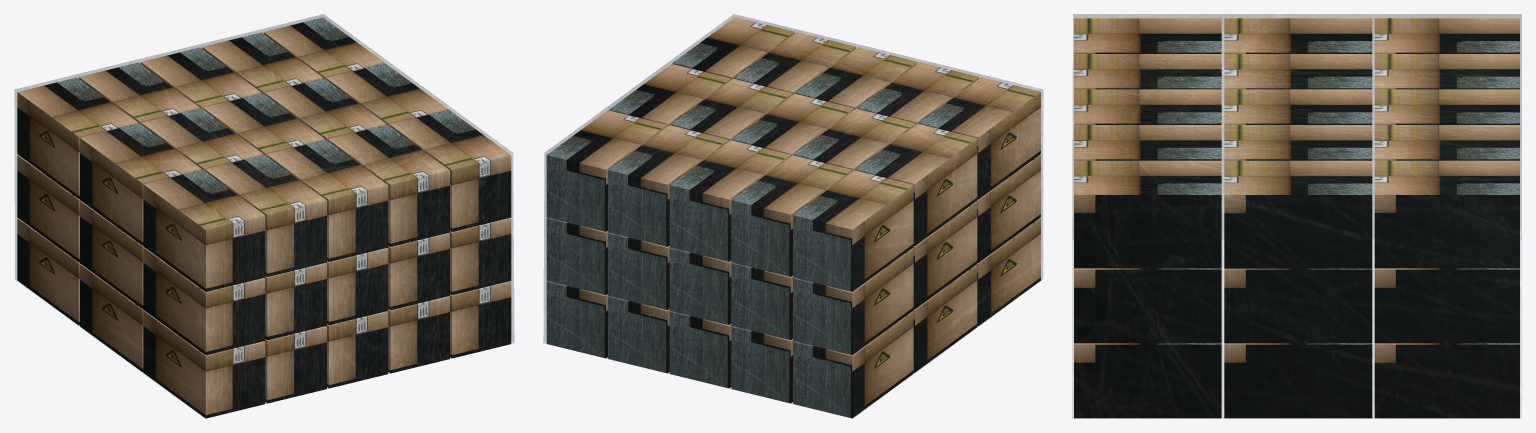
File: Plasticwrapboxfinal.fbx
3 views of the same model, side by side, from view 1: azimuth 30°, elevation 25°; view 2: azimuth 150°, elevation 25°; view 3: azimuth 270°, elevation 25° (orthographic). The views are drawn at different scales.
Visible parts, largest first — view 1: pPlane1, polySurface44, polySurface13, polySurface29, polySurface45, polySurface38, polySurface37, polySurface43, polySurface32, polySurface46, polySurface30, polySurface9 (+18 smaller); view 2: pPlane1, polySurface46, polySurface45, polySurface44, polySurface31, polySurface2, polySurface40, polySurface41, polySurface35, polySurface34, polySurface9, polySurface30 (+18 smaller); view 3: pPlane1, polySurface33, polySurface32, polySurface34, polySurface15, polySurface18, polySurface16, polySurface17, polySurface14, polySurface19, polySurface36, polySurface39 (+10 smaller).
Part boxes in pixels (box(x1,y1,x2,y2)): pPlane1: box(14, 14, 514, 418); polySurface44: box(143, 169, 265, 291); polySurface13: box(143, 310, 265, 418); polySurface29: box(143, 247, 265, 355); polySurface45: box(80, 123, 201, 245); polySurface38: box(266, 139, 388, 261); polySurface37: box(328, 124, 449, 246); polySurface43: box(205, 154, 326, 276); polySurface32: box(389, 109, 511, 231); polySurface46: box(17, 77, 138, 198); polySurface30: box(80, 201, 143, 308); polySurface9: box(80, 264, 143, 371); pPlane1: box(543, 14, 1043, 418); polySurface46: box(793, 170, 913, 291); polySurface45: box(855, 124, 977, 246); polySurface44: box(919, 77, 1040, 199); polySurface31: box(793, 248, 913, 355); polySurface2: box(793, 311, 913, 418); polySurface40: box(669, 140, 790, 261); polySurface41: box(731, 155, 852, 276); polySurface35: box(608, 125, 728, 246); polySurface34: box(546, 110, 667, 231); polySurface9: box(913, 264, 977, 372); polySurface30: box(913, 201, 977, 309); pPlane1: box(1072, 14, 1521, 418); polySurface33: box(1224, 160, 1372, 268); polySurface32: box(1074, 160, 1221, 268); polySurface34: box(1374, 160, 1519, 268); polySurface15: box(1224, 343, 1372, 418); polySurface18: box(1224, 268, 1372, 343); polySurface16: box(1074, 343, 1221, 418); polySurface17: box(1074, 268, 1221, 343); polySurface14: box(1374, 343, 1519, 418); polySurface19: box(1374, 268, 1519, 343); polySurface36: box(1224, 125, 1372, 160); polySurface39: box(1224, 89, 1372, 124).
Bounding box in the file's own units: 83.62 × 49.26 × 88.7.
